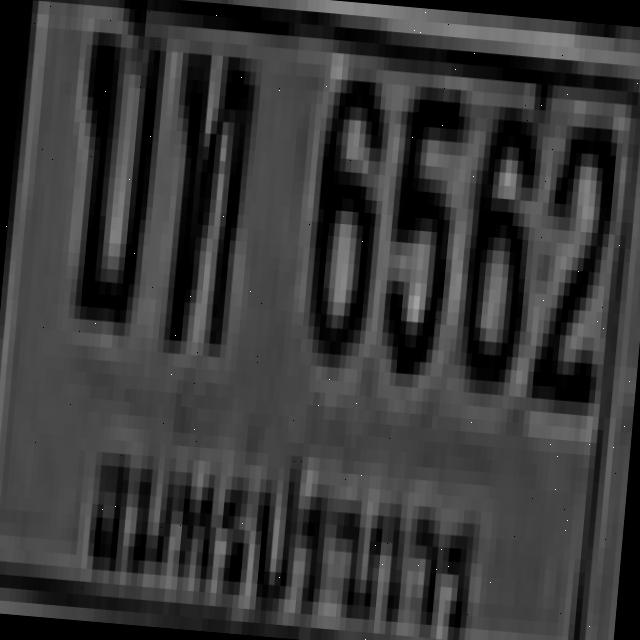2: (526, 98, 620, 402)
32ThorThaHan: (158, 39, 252, 344)
35BorBaiMai: (62, 18, 162, 324)
5: (374, 78, 467, 370)
6: (452, 91, 540, 383), (300, 65, 388, 356)
SamutPrakan: (54, 412, 492, 640)
